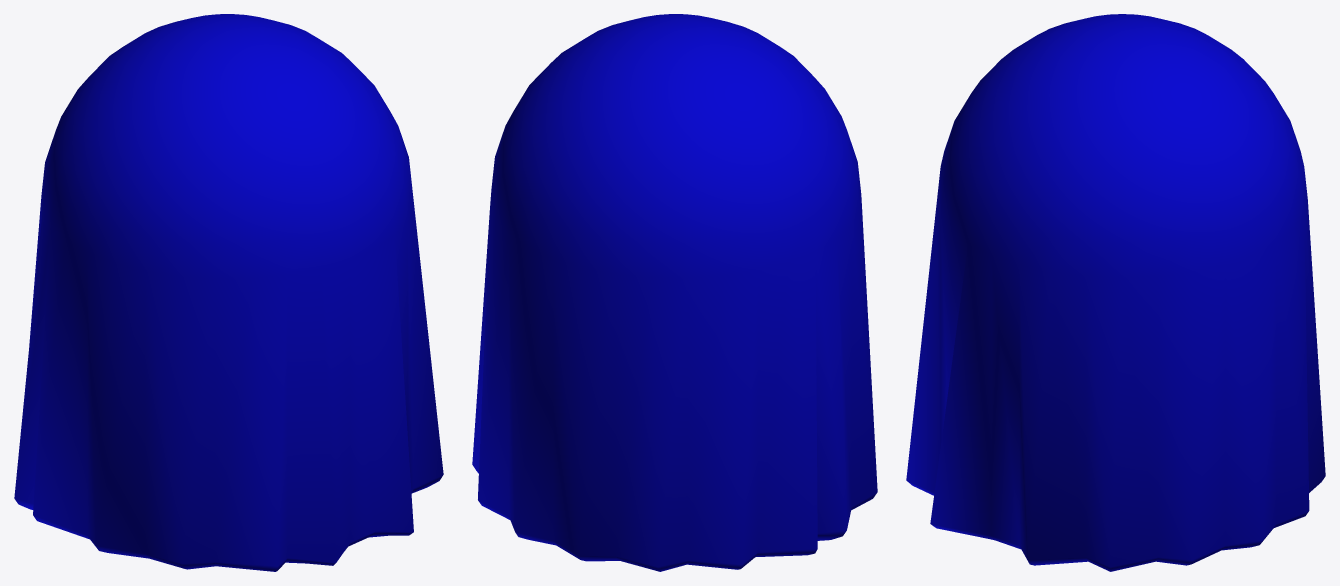
Rendered from Ghost2.obj.
3 renders of one model, left to right at view 1: azimuth 30°, elevation 25°; view 2: azimuth 150°, elevation 25°; view 3: azimuth 270°, elevation 25°, orthographic.
Visible parts, largest first — view 1: Sphere_Sphere.001; view 2: Sphere_Sphere.001; view 3: Sphere_Sphere.001.
Part boxes in pixels (bbox=[...]): Sphere_Sphere.001: bbox=[14, 14, 443, 571]; Sphere_Sphere.001: bbox=[472, 14, 877, 571]; Sphere_Sphere.001: bbox=[906, 14, 1325, 571].
Bounding box in the file's own units: 2.27 × 2.84 × 2.26.
